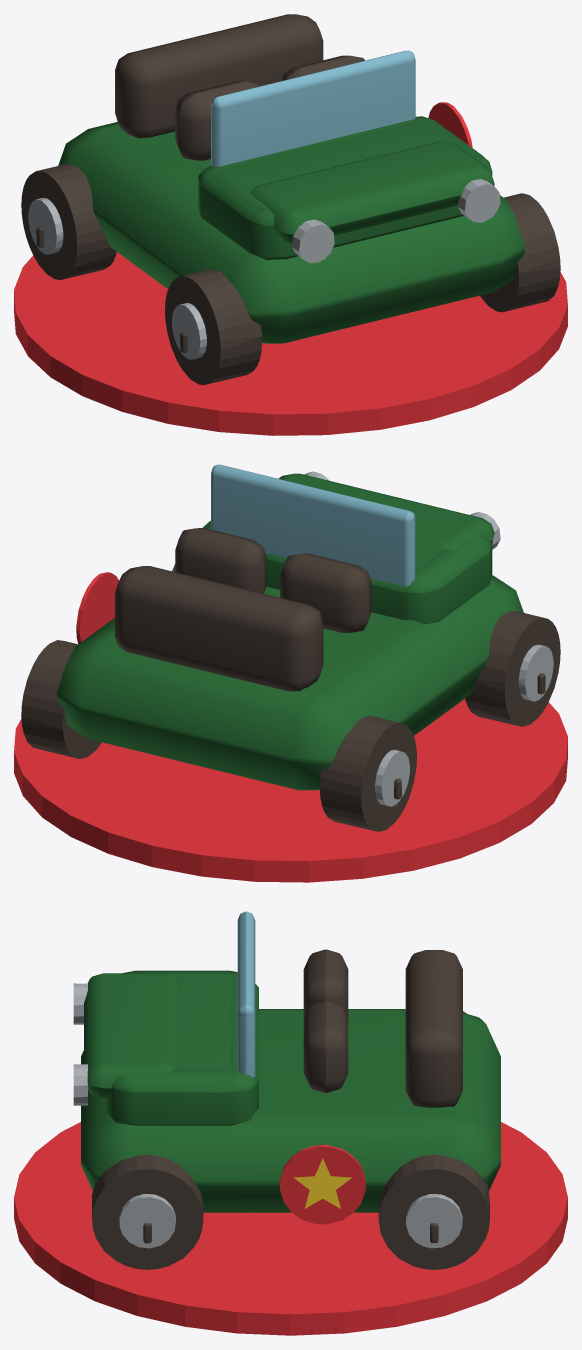
Rendered from vietnam_militia_lod0.glb.
3 renders of one model, top to bottom at view 1: azimuth 30°, elevation 25°; view 2: azimuth 150°, elevation 25°; view 3: azimuth 270°, elevation 25°, orthographic.
Parts seen in each view (by area): view 1: body_hull, base_pedestal; view 2: body_hull, base_pedestal; view 3: body_hull, base_pedestal.
Boxes of the visible parts, x1,y1,x2,y2 form: body_hull: [21, 14, 560, 385]; base_pedestal: [14, 252, 567, 435]; body_hull: [21, 464, 560, 831]; base_pedestal: [14, 699, 567, 882]; body_hull: [73, 911, 500, 1269]; base_pedestal: [14, 1122, 567, 1335].
Size of the model in its own units: 0.78 by 0.4052 by 0.78.
